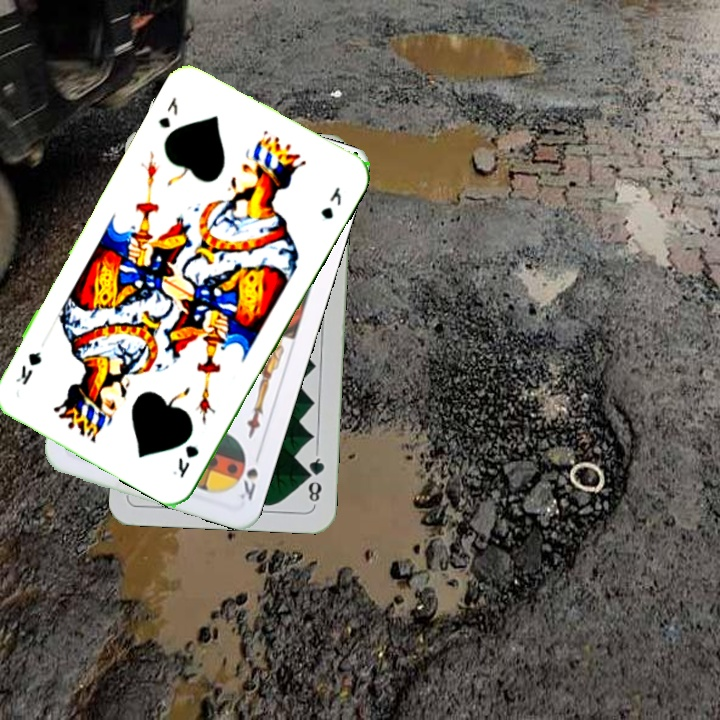G8: (303, 448, 327, 508)
GK: (168, 441, 202, 480), (154, 92, 181, 131)
SK: (232, 463, 261, 503)
